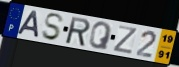2: (135, 30, 158, 60)
A: (16, 10, 40, 39)
Q: (88, 21, 113, 52)
R: (65, 16, 91, 48)
S: (41, 12, 65, 42)
Z: (112, 24, 139, 55)
